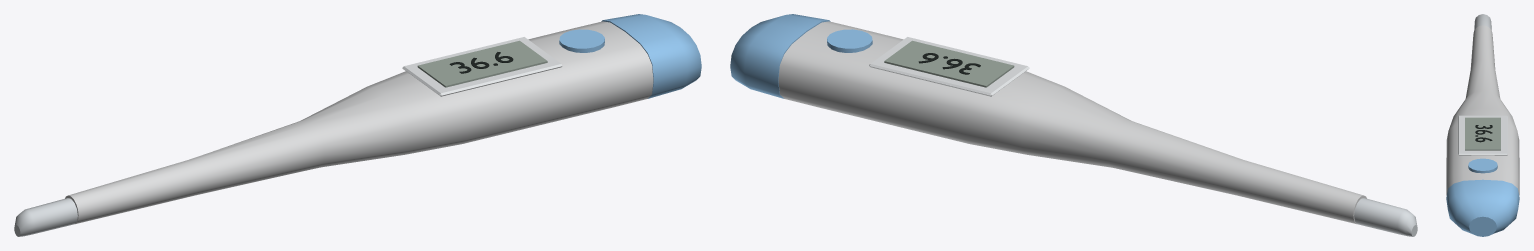
The model's file is item-63.glb.
The picture shows the model from 3 angles, left to right: view 1: azimuth 30°, elevation 25°; view 2: azimuth 150°, elevation 25°; view 3: azimuth 270°, elevation 25°; orthographic projection. The views are drawn at different scales.
Visible parts, largest first — view 1: body, cap, lcd, bezel, tip, button, digits; view 2: body, cap, lcd, bezel, tip, button, digits; view 3: body, cap, lcd, bezel, button, tip, digits.
Part boxes in pixels (x1,y1,x2,y2): body: (65,21,653,223); cap: (601,14,701,98); lcd: (417,40,547,87); bezel: (402,37,562,96); tip: (14,198,77,236); button: (559,29,604,52); digits: (449,52,513,73); body: (778,21,1366,223); cap: (730,14,830,98); lcd: (884,40,1014,87); bezel: (869,37,1029,96); tip: (1354,198,1417,236); button: (827,29,872,52); digits: (918,53,980,74); body: (1446,25,1519,194); cap: (1446,179,1519,236); lcd: (1465,117,1500,150); bezel: (1458,115,1507,155); button: (1468,158,1497,173); tip: (1474,14,1491,29); digits: (1475,125,1492,142).
Size of the model in its own units: 0.125 by 0.0107 by 0.0184.
